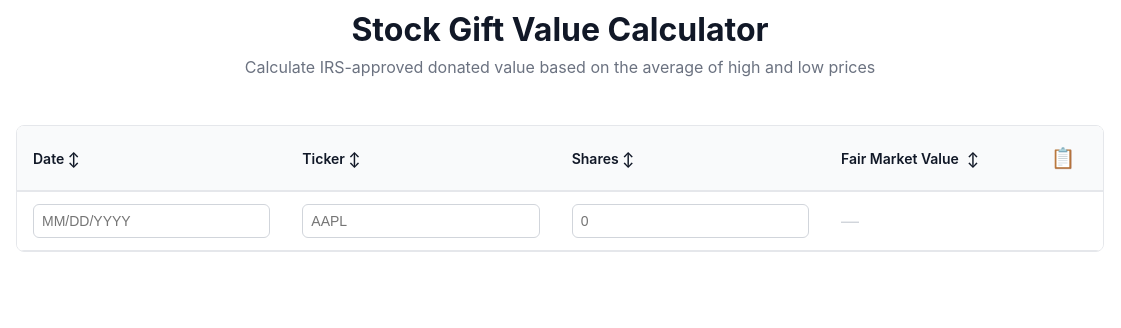
Test case: StockGiftCalculator - Row Management › should show remove button when row has data
The width and height of the screenshot is (1121, 328).
Step 1. Type "2024-01-01" into the field named "date" → {"x": 152, "y": 221}, box left=33, top=204, right=270, bottom=238
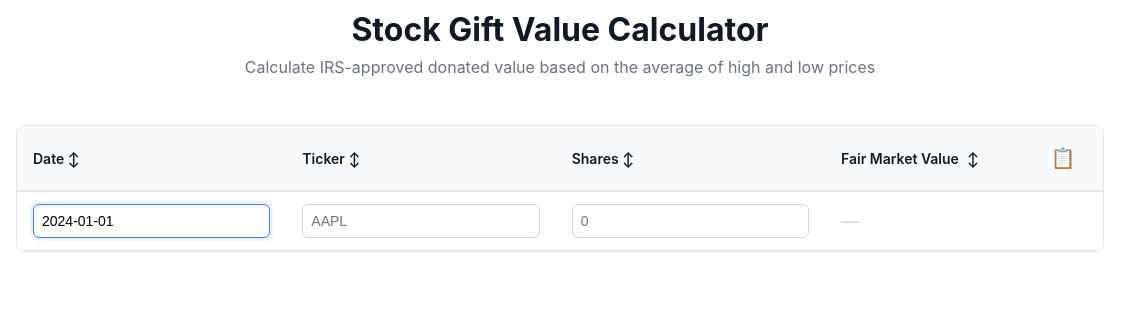
Step 2. Press Tab
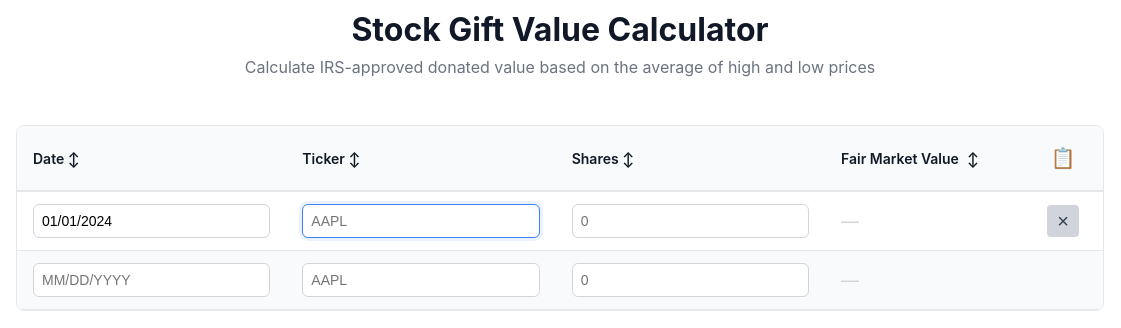
Expected: the button named "remove" is shown, left=1047, top=205, right=1079, bottom=237
